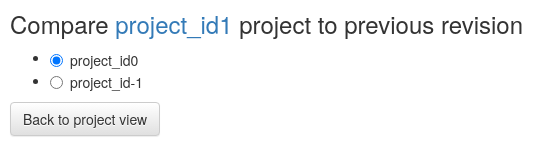
it: <HistoryProject> › with project with a archived versions › when second archive version is clicked › should have a unchecked radiobox for the first archived version
Step 1. Click the radio button labelled "project_id-1" → (56,82), box [50,76,63,89]
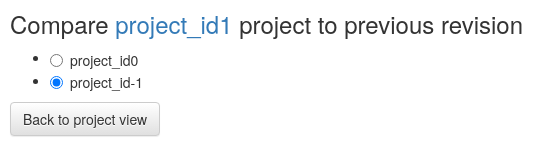
Check: the radio button labelled "project_id0" is not checked, box [50,54,63,67]
